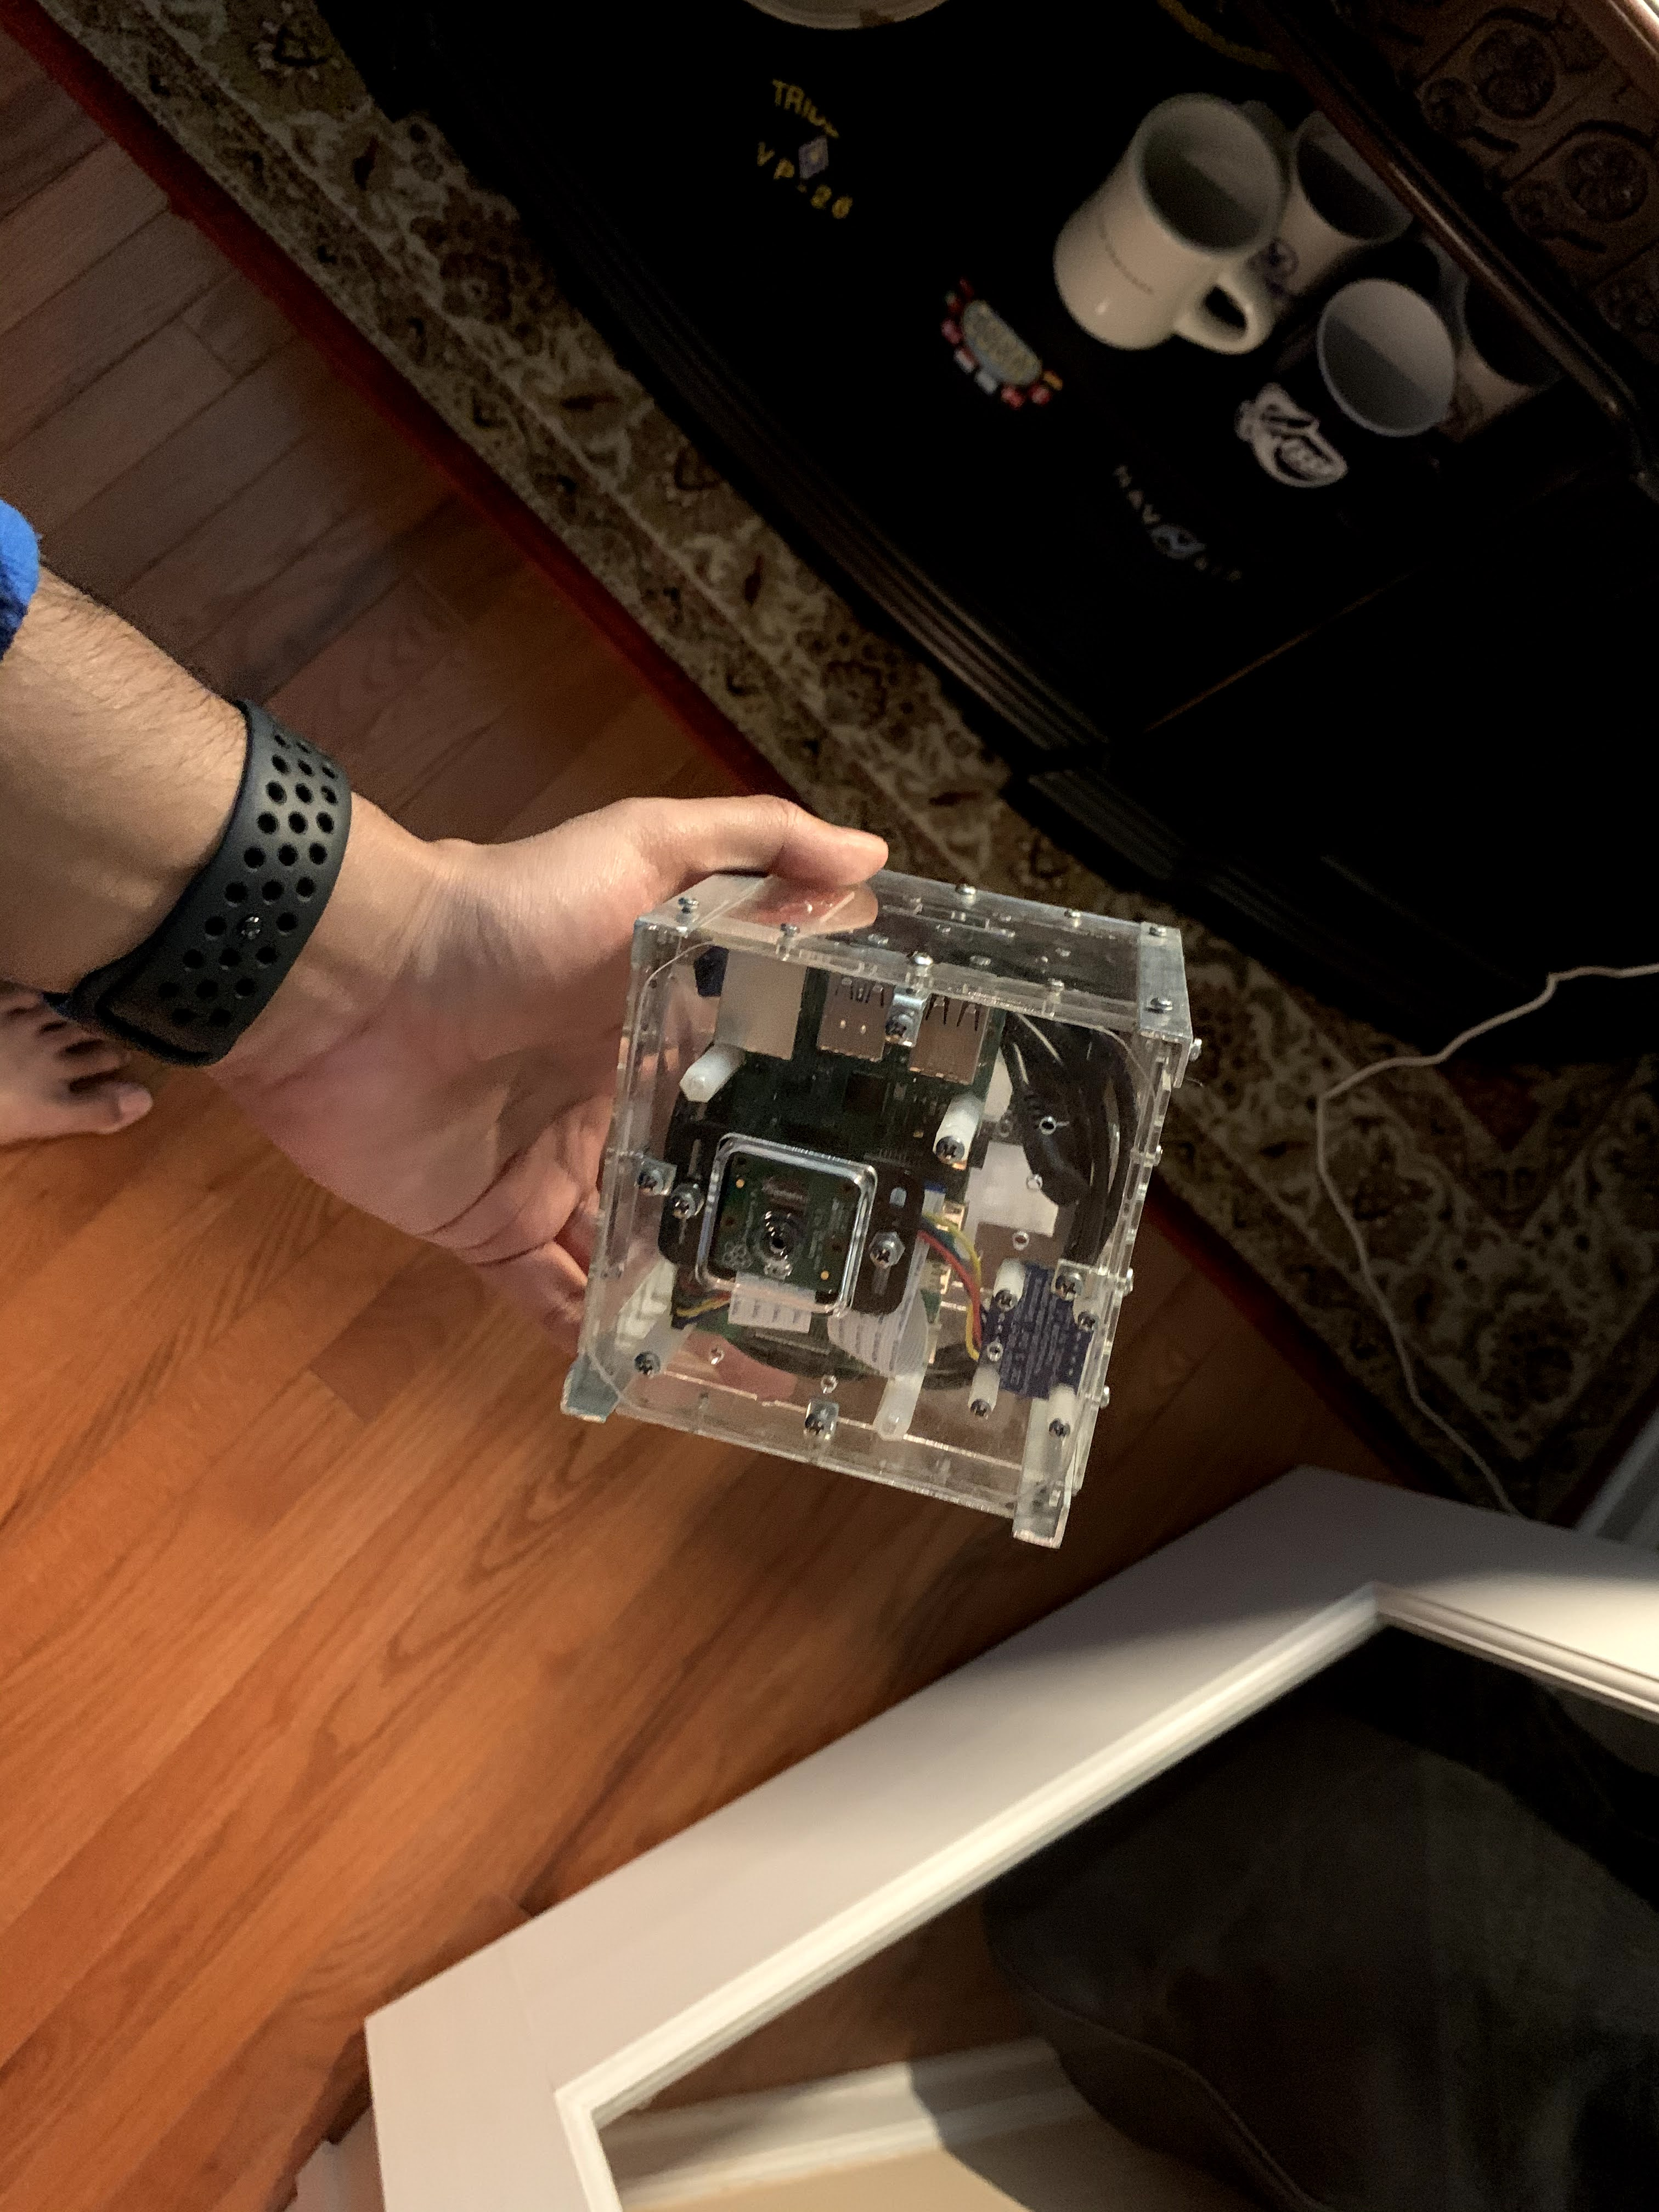Space-debris-cubesat: (516, 808, 1216, 1580)
